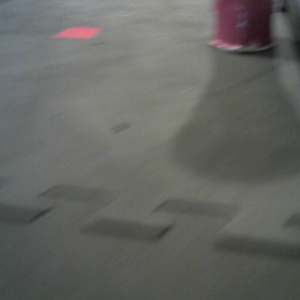Right: (213, 2, 278, 53)
